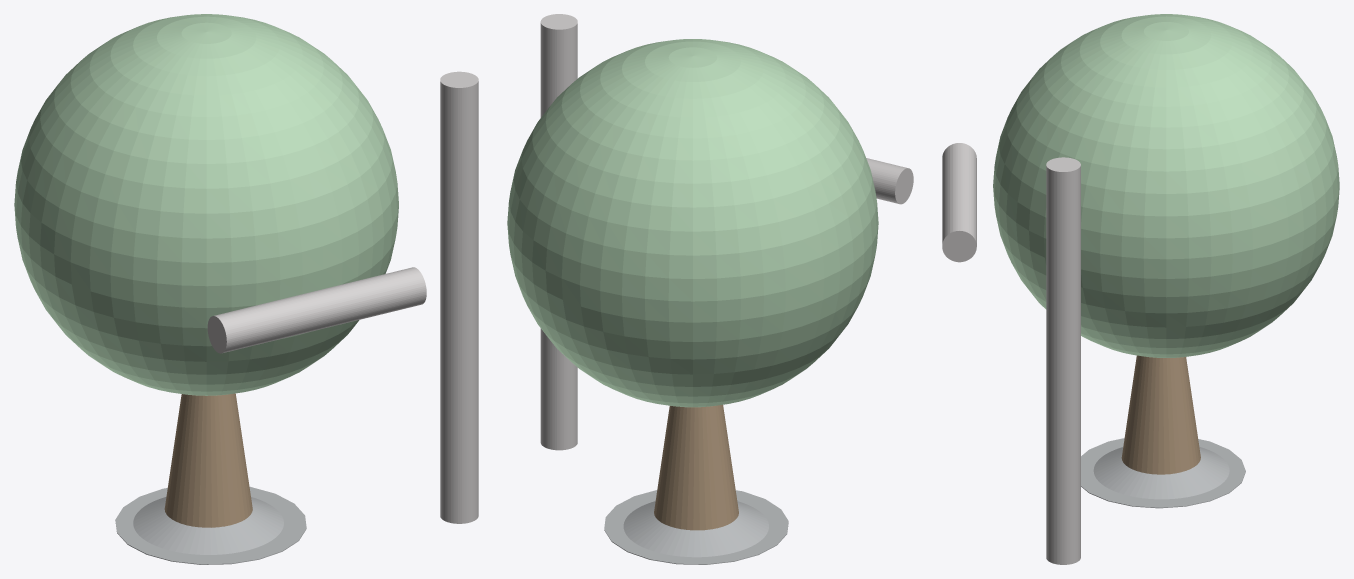
Rendered from MainSphereTreeLightGreen.glb.
3 views of the same model, side by side, from view 1: azimuth 30°, elevation 25°; view 2: azimuth 150°, elevation 25°; view 3: azimuth 270°, elevation 25° (orthographic). The views are drawn at different scales.
Parts seen in each view (by area): view 1: Mesh_Mesh_head_geo.001_lambert2SG.001; view 2: Mesh_Mesh_head_geo.001_lambert2SG.001; view 3: Mesh_Mesh_head_geo.001_lambert2SG.001.
Part boxes in pixels (<box>): Mesh_Mesh_head_geo.001_lambert2SG.001: <box>14,14,478,564</box>; Mesh_Mesh_head_geo.001_lambert2SG.001: <box>507,14,913,564</box>; Mesh_Mesh_head_geo.001_lambert2SG.001: <box>942,14,1339,564</box>.
Bounding box in the file's own units: 5.68 × 7.02 × 5.73.
